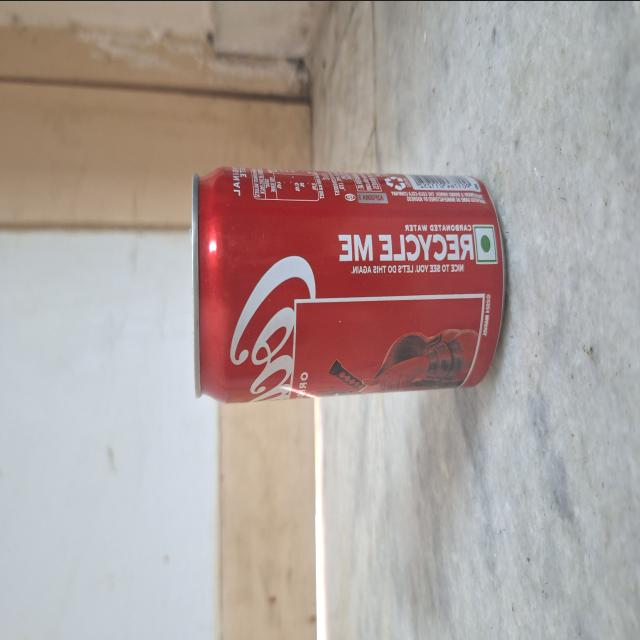Coca Cola - Marvel: (189, 147, 499, 396)
